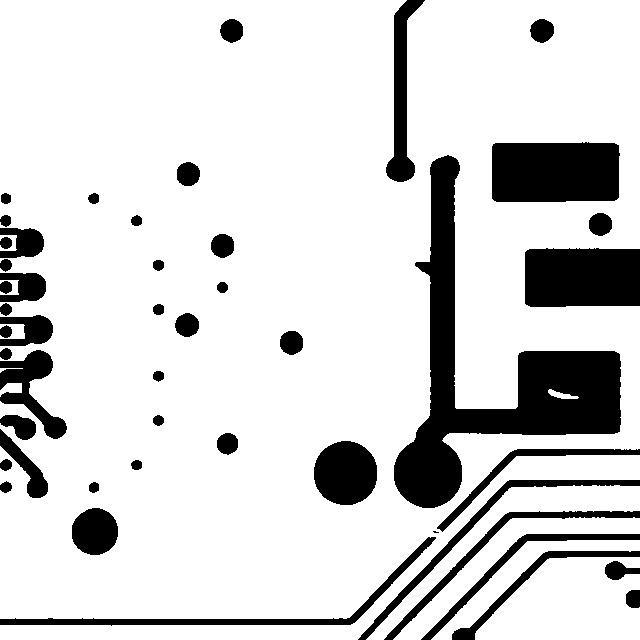copper: (207, 272, 237, 302)
open: (415, 518, 451, 548)
pin-hole: (538, 379, 588, 408)
short: (12, 368, 39, 408)
spur: (405, 252, 445, 287)
